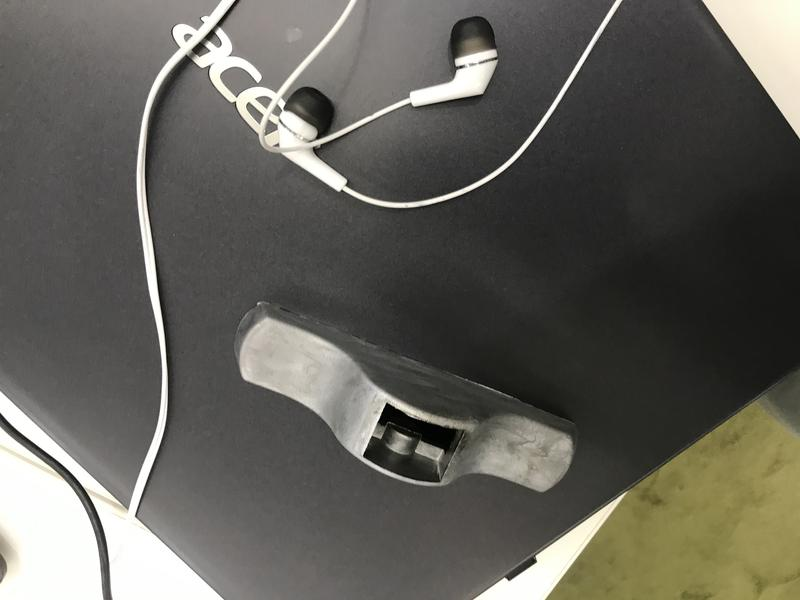zapchast: (219, 286, 588, 505)
